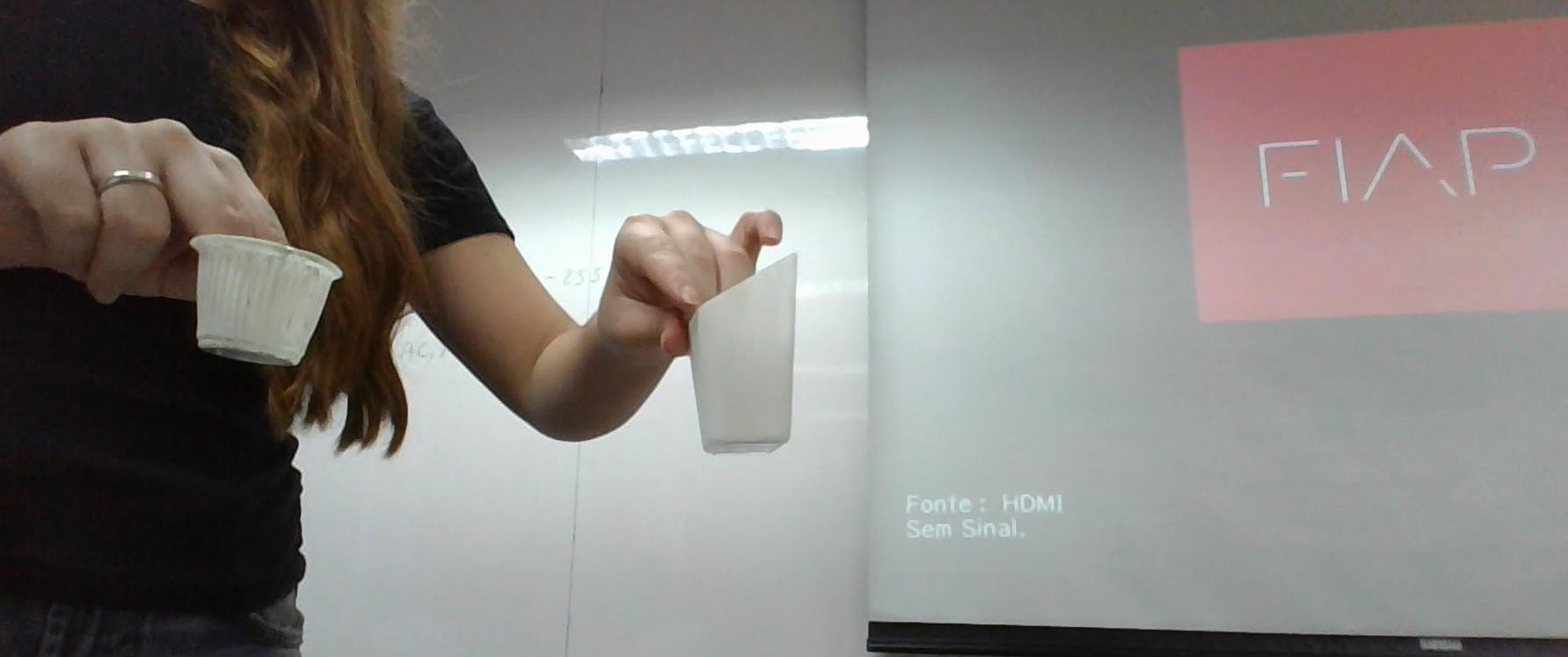erva_daninha: (689, 252, 798, 456)
planta: (189, 232, 344, 368)
